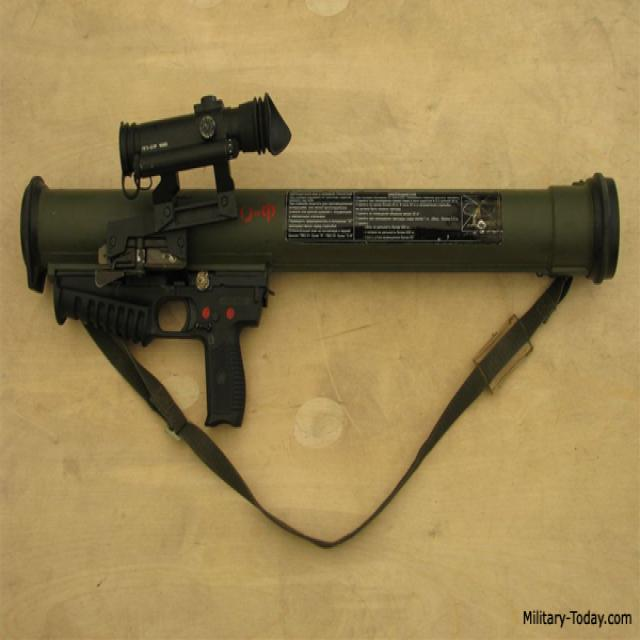bazooka: (8, 68, 630, 465)
